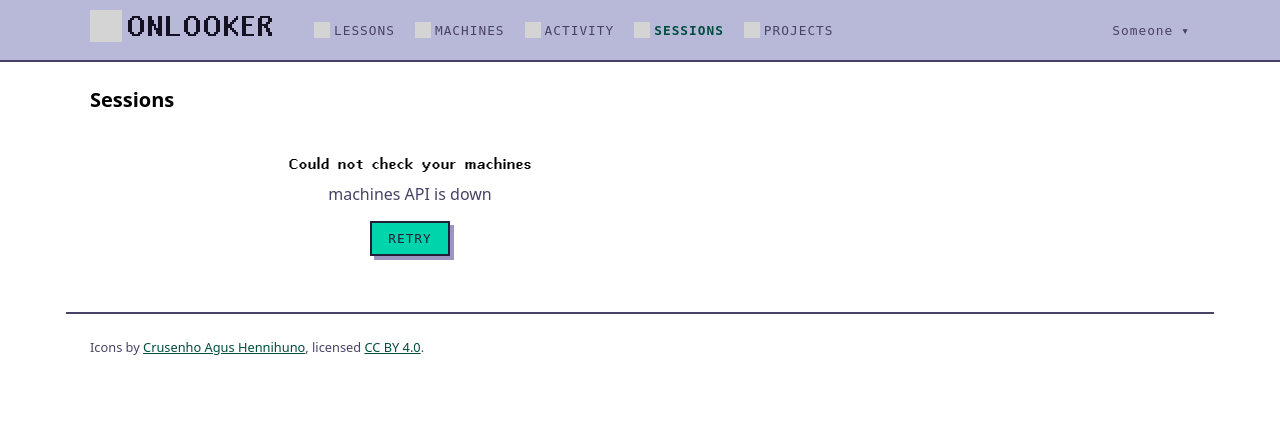
Test: /sessions when nothing has synced › offers a retry when the machines check fails, and recovers through it
The image size is (1280, 423).
Check: the heading "Could not check your machines" is shown, box [288,157,532,175]
Check: the text "machines API is down" is shown, box [328,183,492,205]
What coordinates should you click on to do the following:
click the button "Retry"
I would click on:
 (410, 238)
Its box is [370,221,450,256].
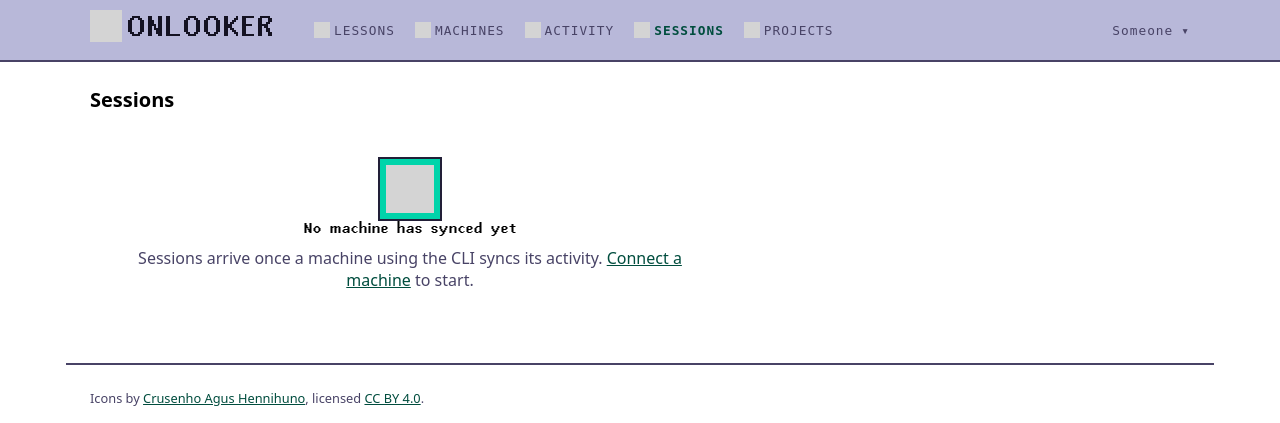
Check: the heading "No machine has synced yet" is shown, box [304,221,516,239]
